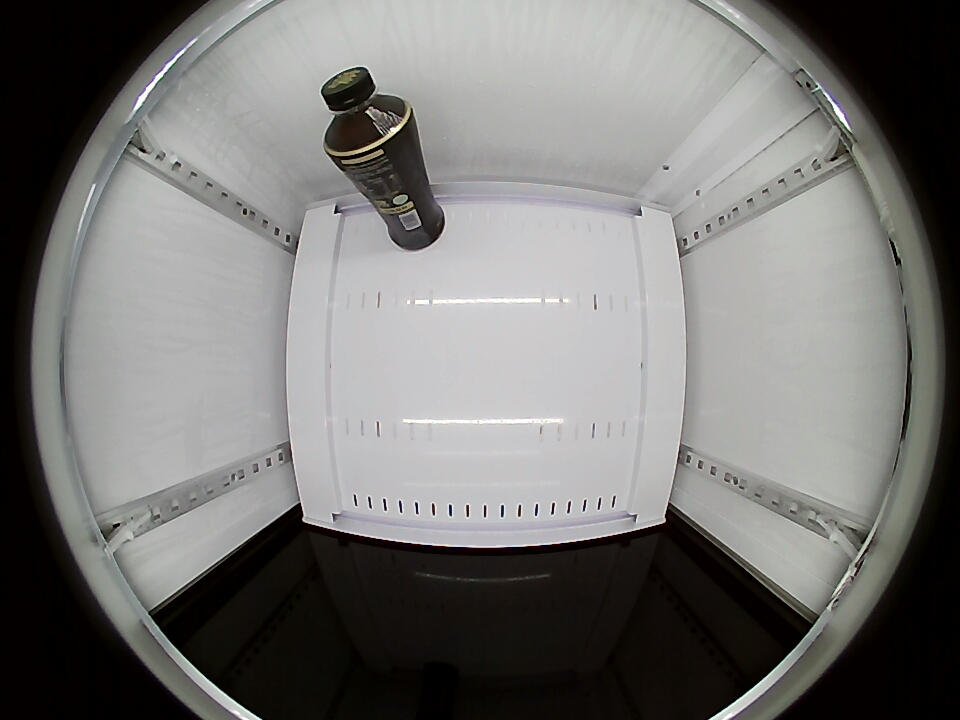rancha-1: (321, 66, 413, 162)
